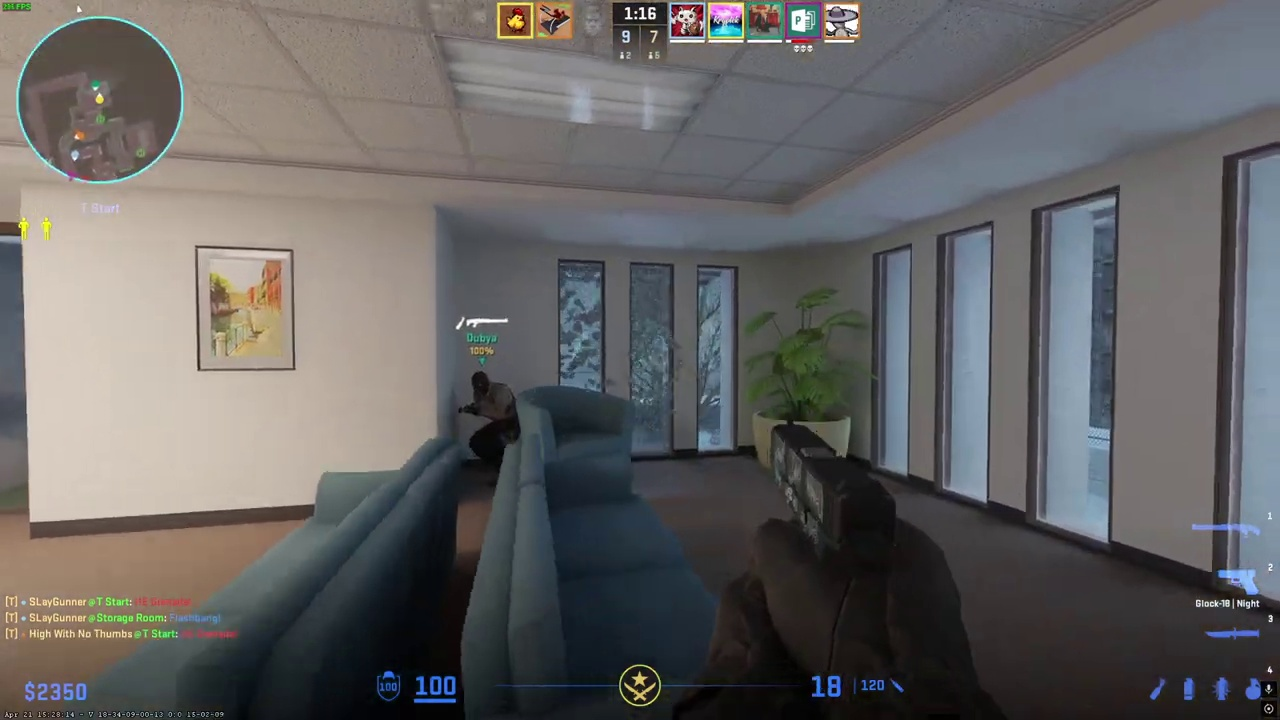Terrorist: (464, 371, 520, 477)
